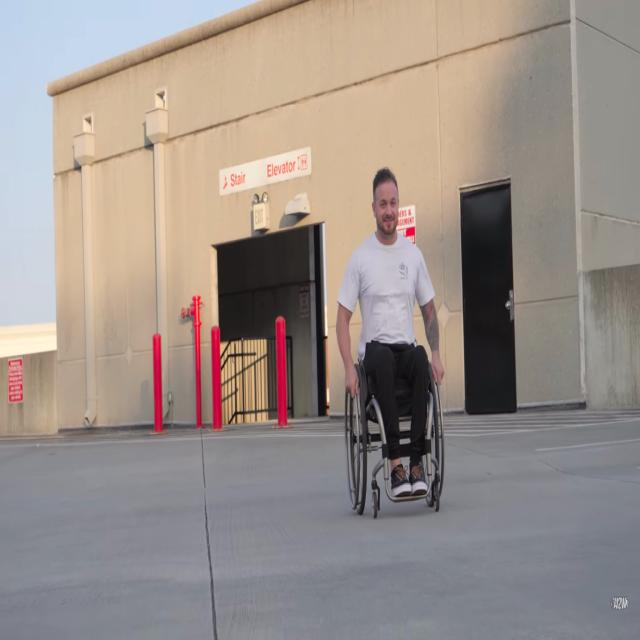wheelchairs: (338, 342, 458, 530)
